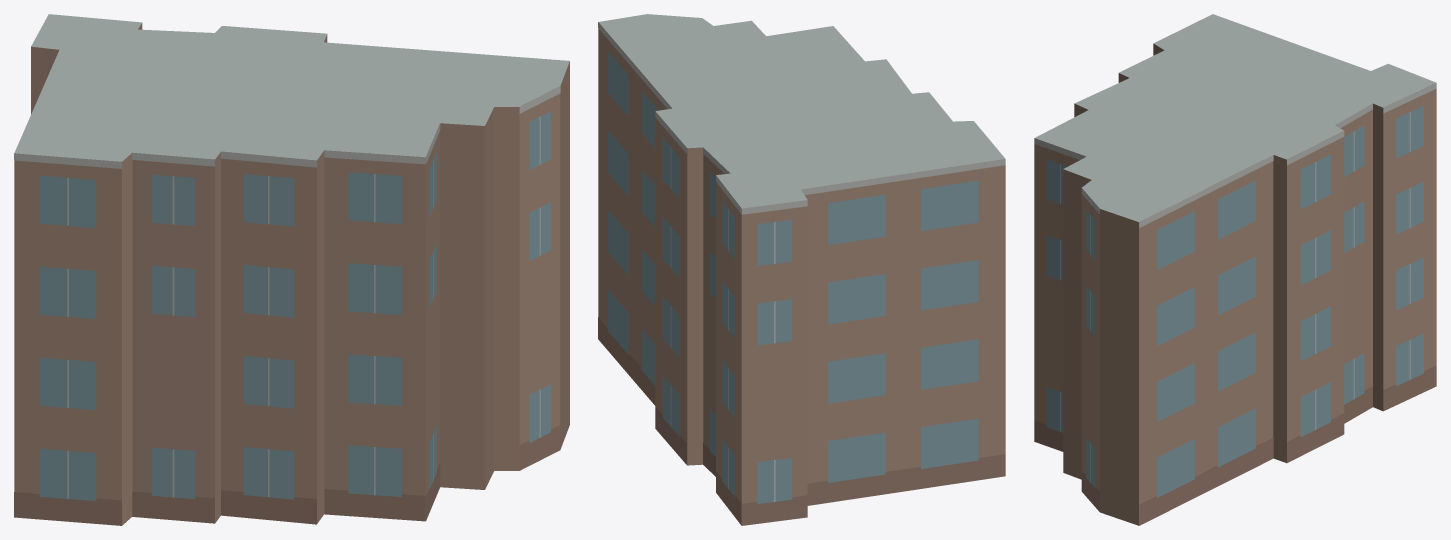
File: survey-upis-32915989.glb
3 views of the same model, side by side, from view 1: azimuth 30°, elevation 25°; view 2: azimuth 150°, elevation 25°; view 3: azimuth 270°, elevation 25° (orthographic). The views are drawn at different scales.
Visible parts, largest first — view 1: survey-upis-32915989.tmp; view 2: survey-upis-32915989.tmp; view 3: survey-upis-32915989.tmp.
Part boxes in pixels (left/top/right/bottom): survey-upis-32915989.tmp: left=14, top=14, right=569, bottom=525; survey-upis-32915989.tmp: left=598, top=14, right=1005, bottom=525; survey-upis-32915989.tmp: left=1034, top=14, right=1436, bottom=525.
Size of the model in its own units: 18.32 by 12.45 by 14.95.
